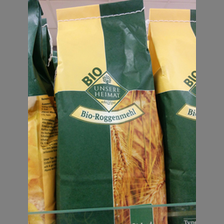flour: (58, 1, 169, 223)
